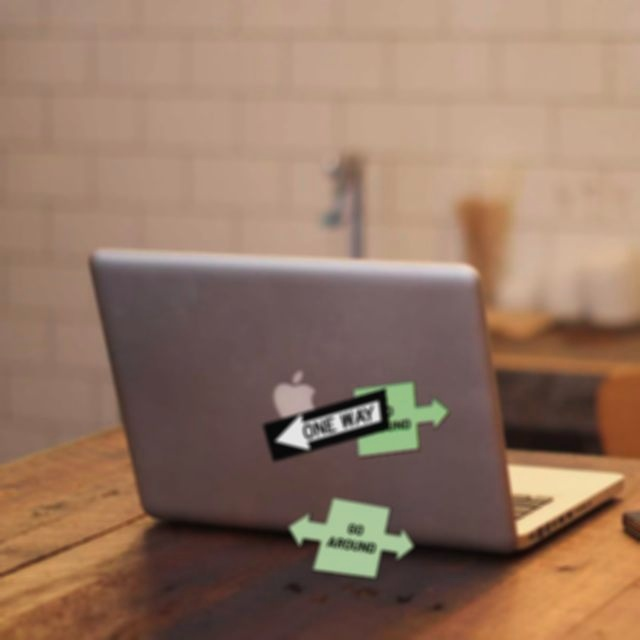GO_AROUND: (287, 497, 415, 579), (322, 381, 450, 458)
ONE_WAY_ left: (262, 388, 390, 462)
